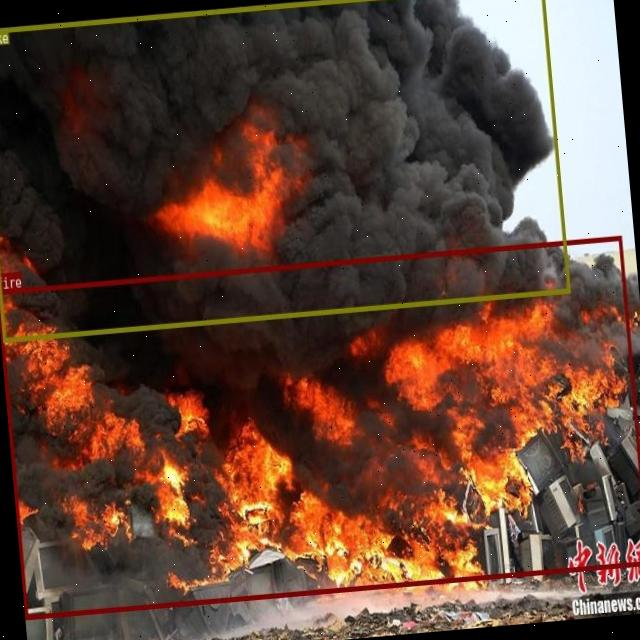fire: (0, 235, 640, 618)
smoke: (0, 0, 569, 341)
